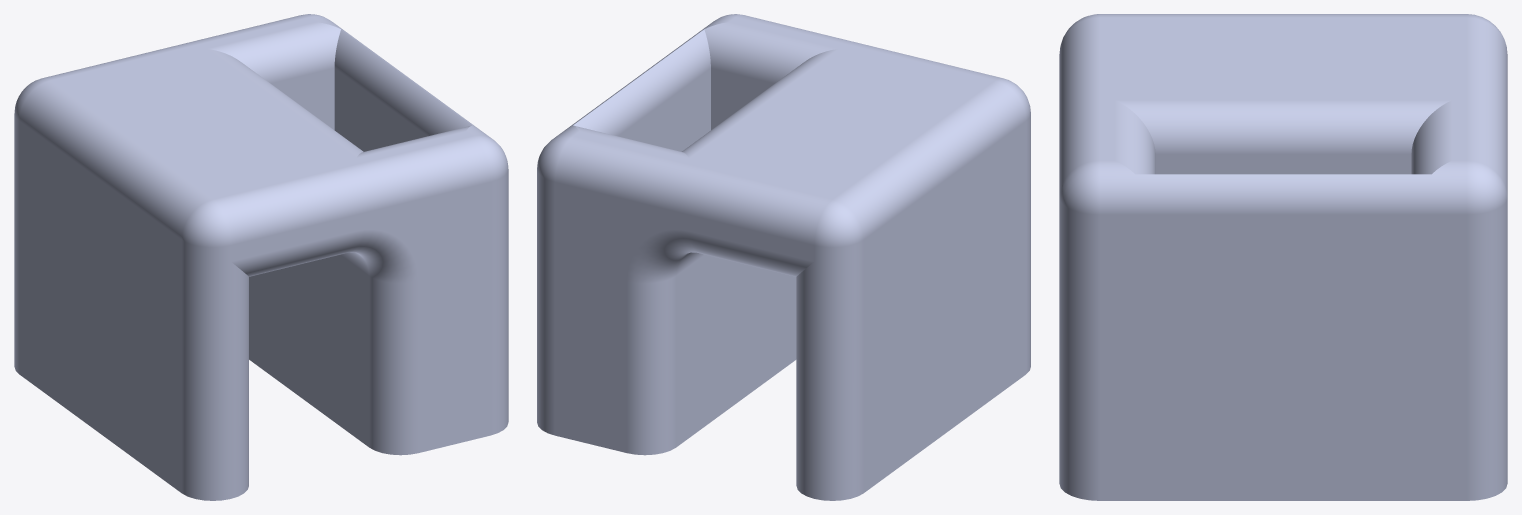
The model's file is USB Holder Addon.gltf.
The picture shows the model from 3 angles, left to right: view 1: azimuth 30°, elevation 25°; view 2: azimuth 150°, elevation 25°; view 3: azimuth 270°, elevation 25°; orthographic projection. The views are drawn at different scales.
Visible parts, largest first — view 1: USB Holder Addon; view 2: USB Holder Addon; view 3: USB Holder Addon.
Part boxes in pixels (x1=…): USB Holder Addon: x1=14, y1=14, x2=508, y2=500; USB Holder Addon: x1=537, y1=14, x2=1030, y2=500; USB Holder Addon: x1=1059, y1=14, x2=1507, y2=500.
Size of the model in its own units: 0.0206 by 0.0175 by 0.022.
